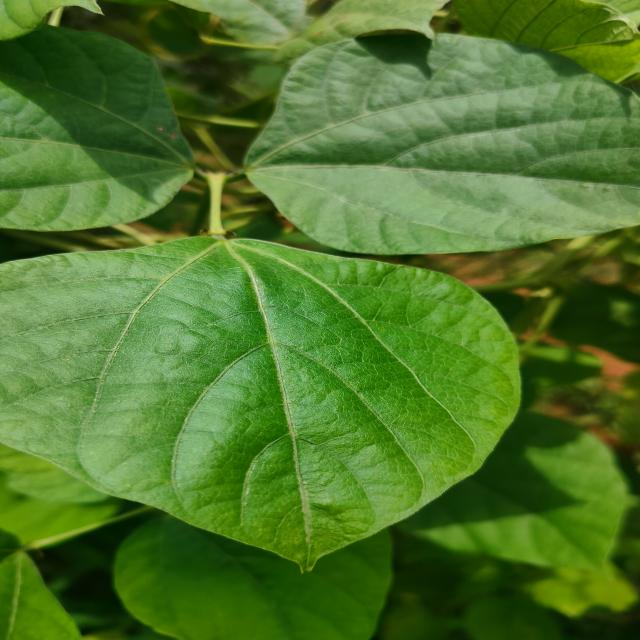Dolicos bean_healthy: (0, 239, 524, 576), (247, 32, 640, 258), (361, 395, 640, 575), (111, 493, 395, 640), (0, 26, 179, 237)
